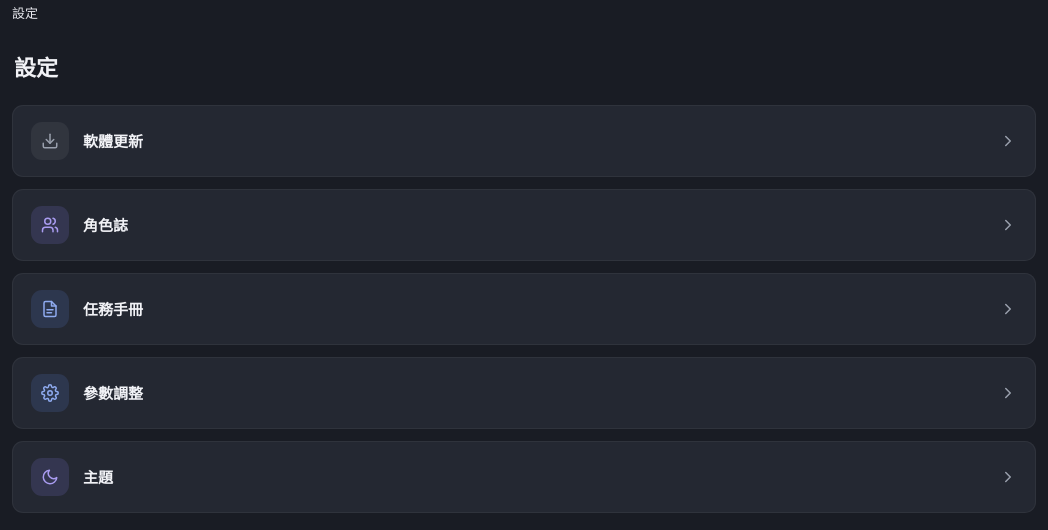
Test: SettingsPage · unified breadcrumb header (T-8f6e) › 參數調整: 設定 › 參數調整 + title, no back button
Click the button with test id "settings-params-entry" at x=50, y=392, box left=12, top=356, right=1036, bottom=428
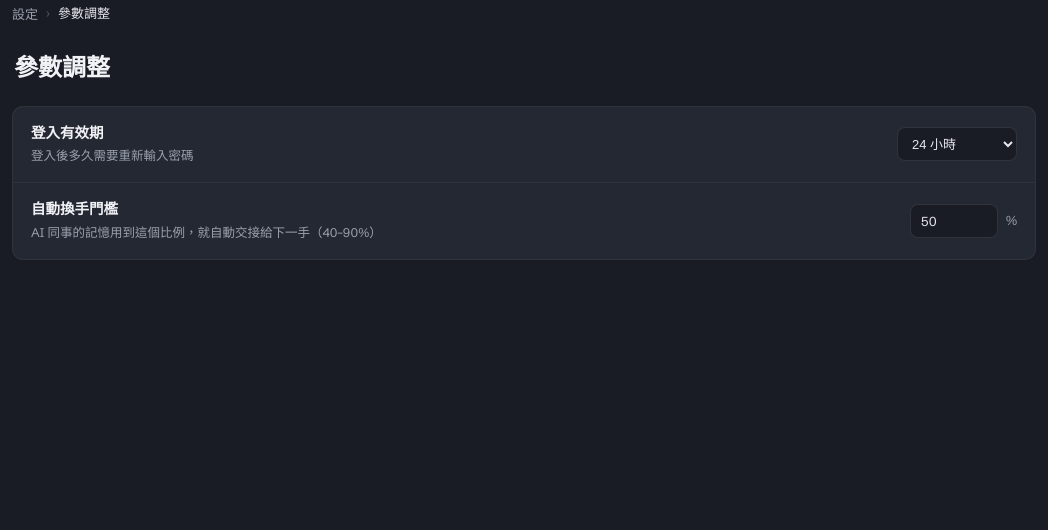
Check: the dropdown labelled "登入有效期" is shown, box left=897, top=127, right=1017, bottom=161
Check: the heading "參數調整" is shown, box left=14, top=52, right=110, bottom=82
